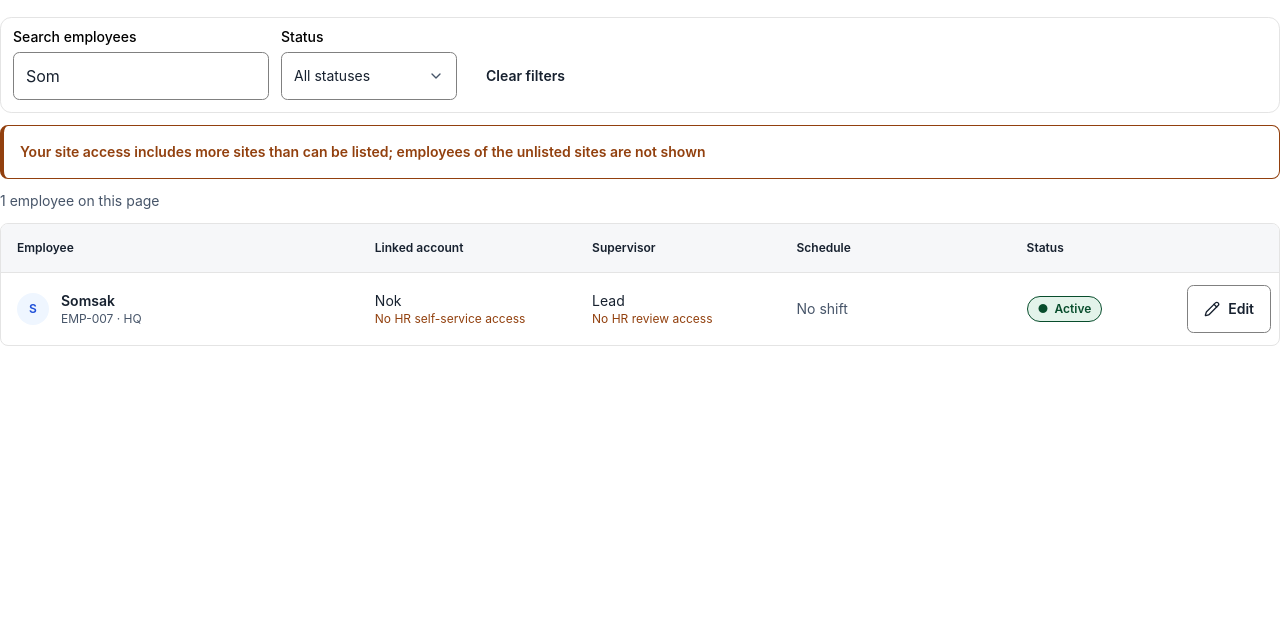
Test case: successful employee save closes the editor with a en receipt and HR access handoff, then the next Back returns to the caller
Expected: the text "No HR self-service access" is shown, [375,310,525,326]
Expected: the text "No HR review access" is shown, [592,310,713,326]
Click the button "Edit". click: (1229, 308)
box: [1187,284,1271,332]
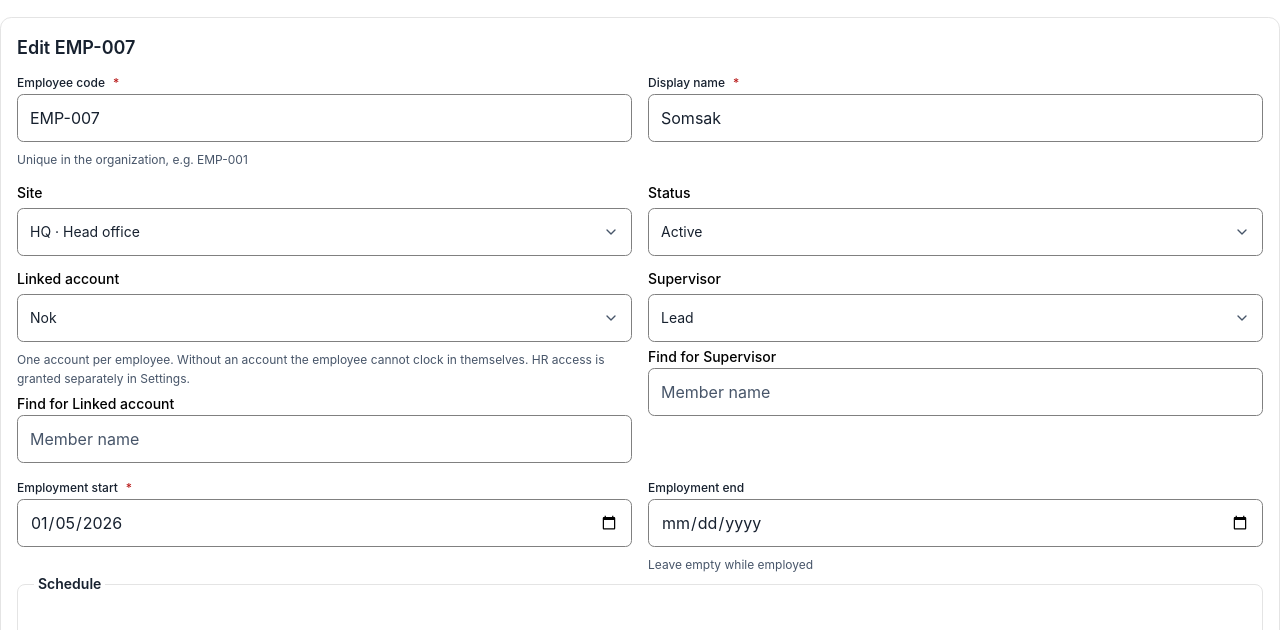
Replace the text in the field labelled "Display name" with "Somsak K.". click: (956, 118)
box: [648,94,1263,142]
(page scrolled)
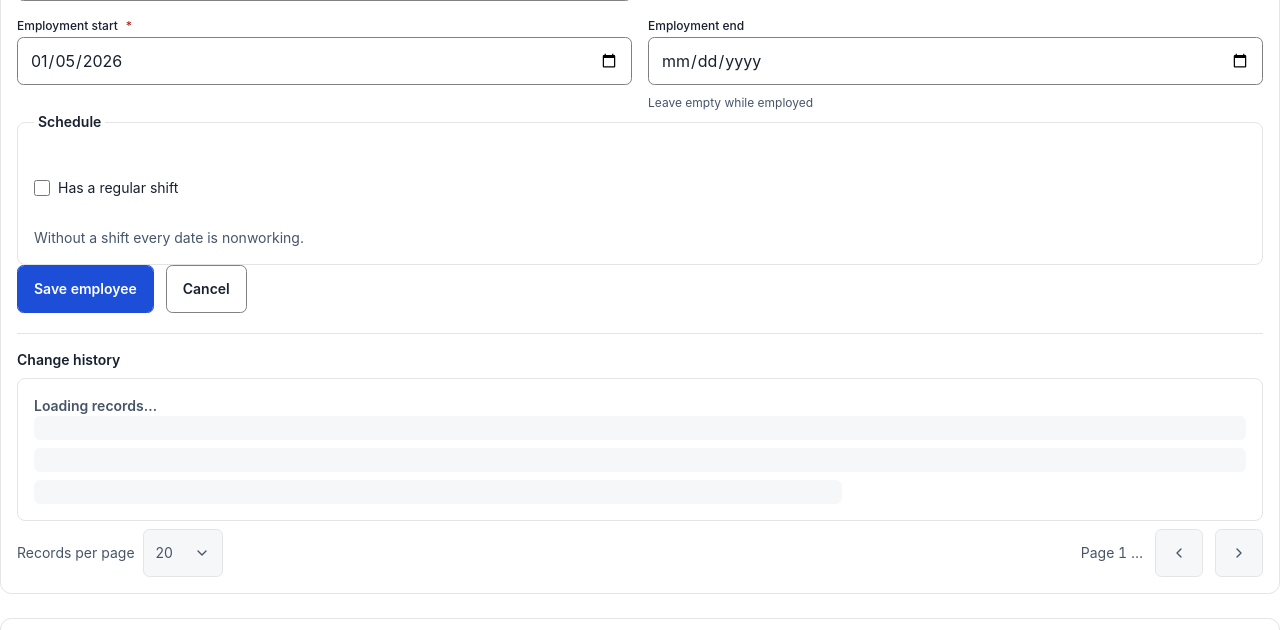
Click the button "Save employee". click: (85, 289)
box: [17,265,154,313]
(page scrolled)
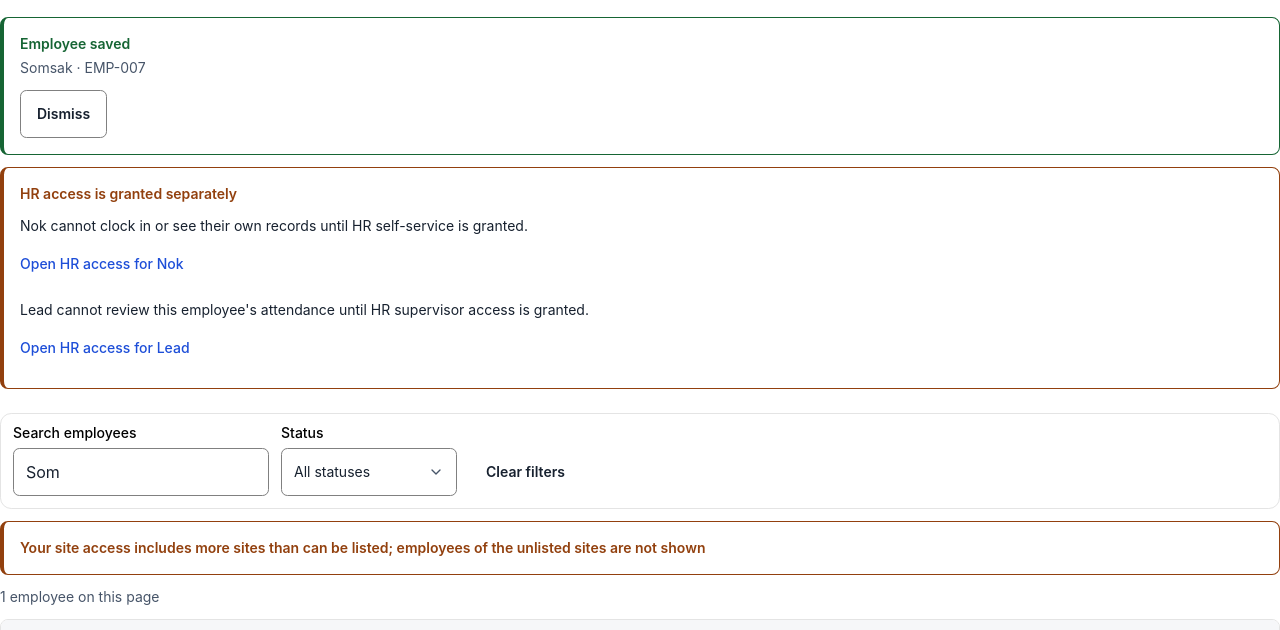
Now the element with test id "hr-employee-saved" shows "Employee saved", box [20,35,130,52]
Now the element with test id "hr-employee-saved" shows "Somsak · EMP-007", box [20,59,146,76]
